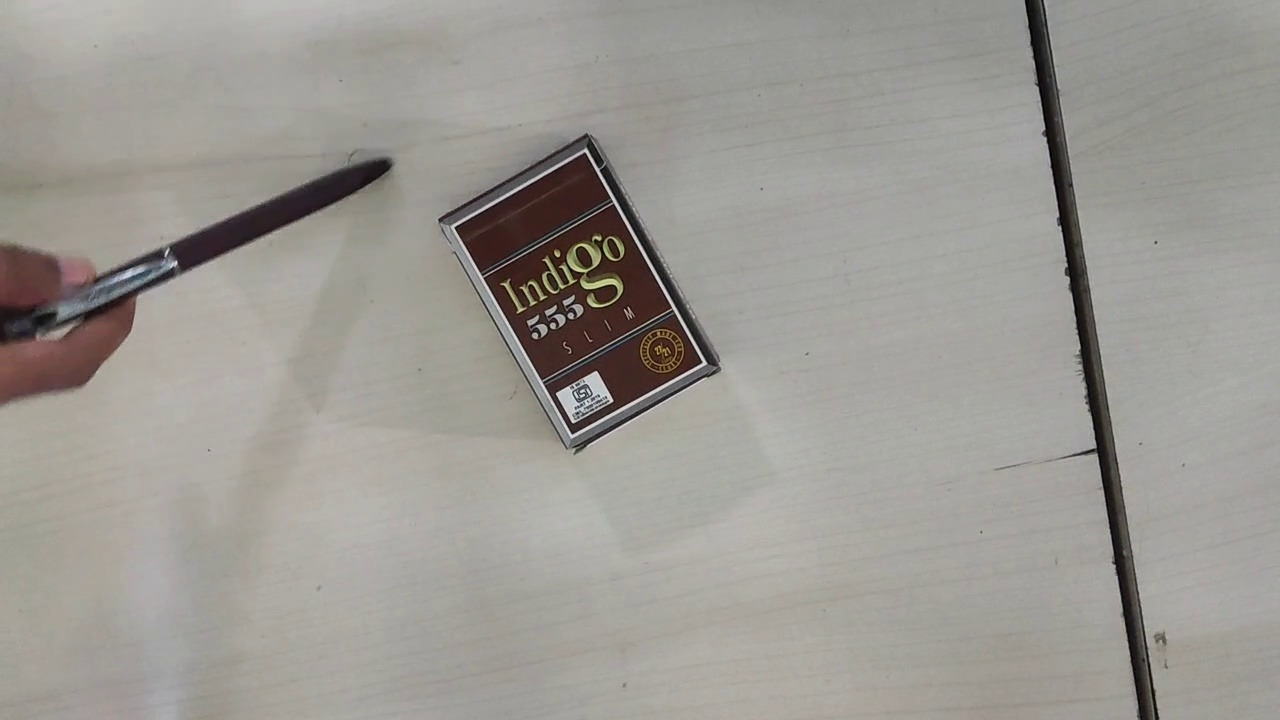BEX: (453, 145, 706, 435)
